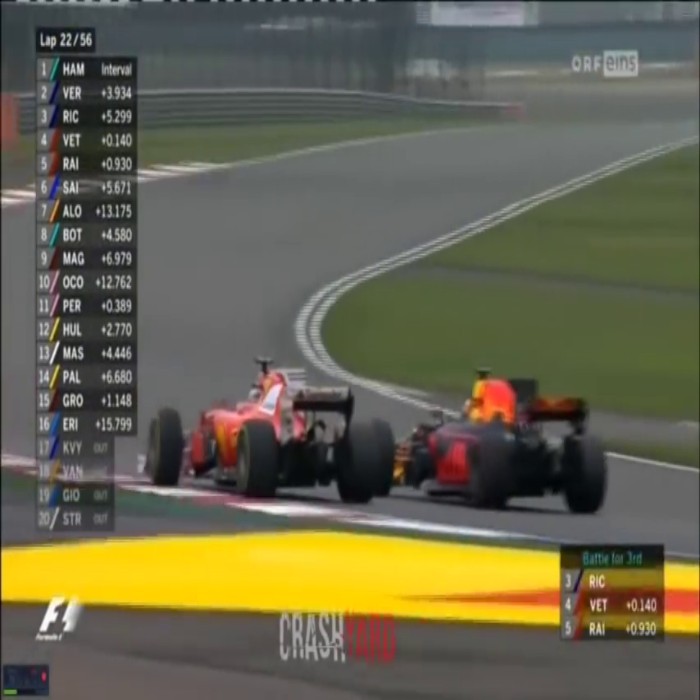f1_car: (148, 350, 398, 511), (366, 377, 630, 507)
